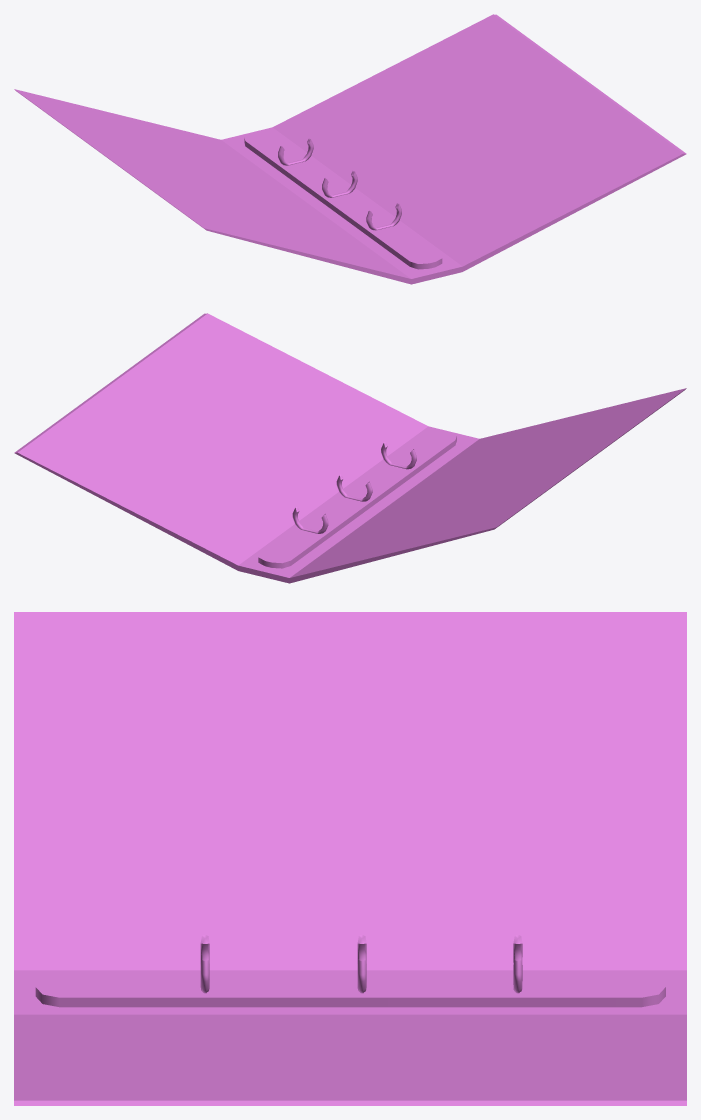
File: Carpeta 3.fbx
The picture shows the model from 3 angles, top to bottom: view 1: azimuth 30°, elevation 25°; view 2: azimuth 150°, elevation 25°; view 3: azimuth 270°, elevation 25°; orthographic projection. The views are drawn at different scales.
Parts seen in each view (by area): view 1: Carpeta_3; view 2: Carpeta_3; view 3: Carpeta_3.
Part boxes in pixels (left/top/right/bottom): Carpeta_3: left=14, top=14, right=686, bottom=284; Carpeta_3: left=14, top=313, right=686, bottom=583; Carpeta_3: left=14, top=612, right=686, bottom=1105.
Bounding box in the file's own units: 0.5643 × 0.1194 × 0.3852.
